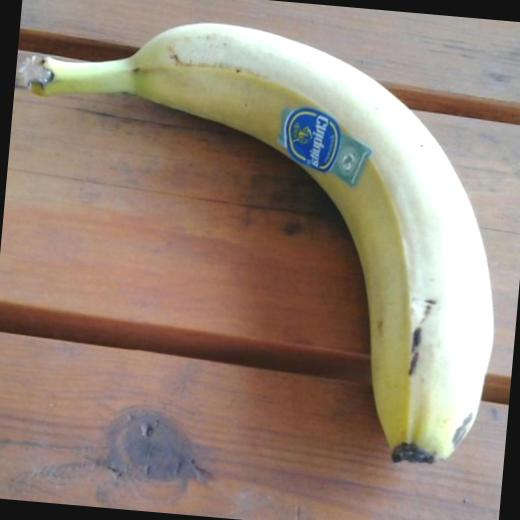Banana: (0, 4, 519, 474)
